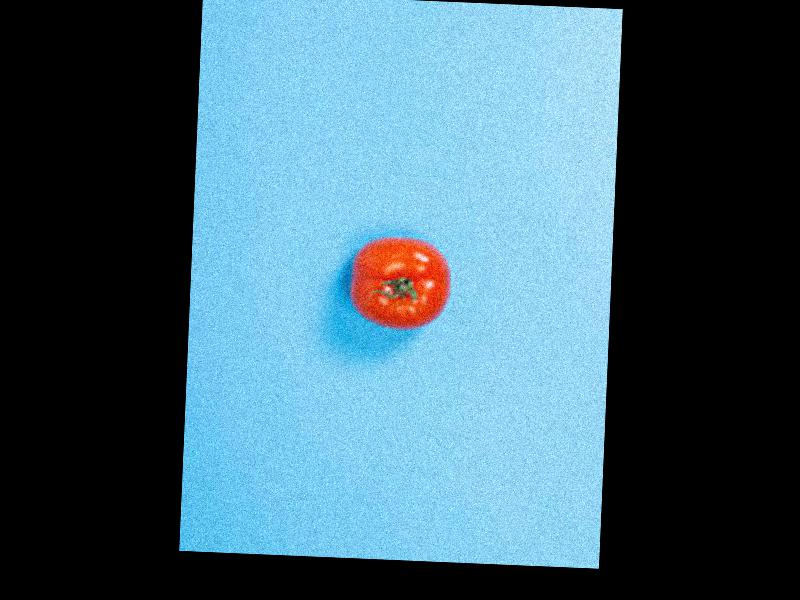Tomato: (349, 236, 454, 334)
